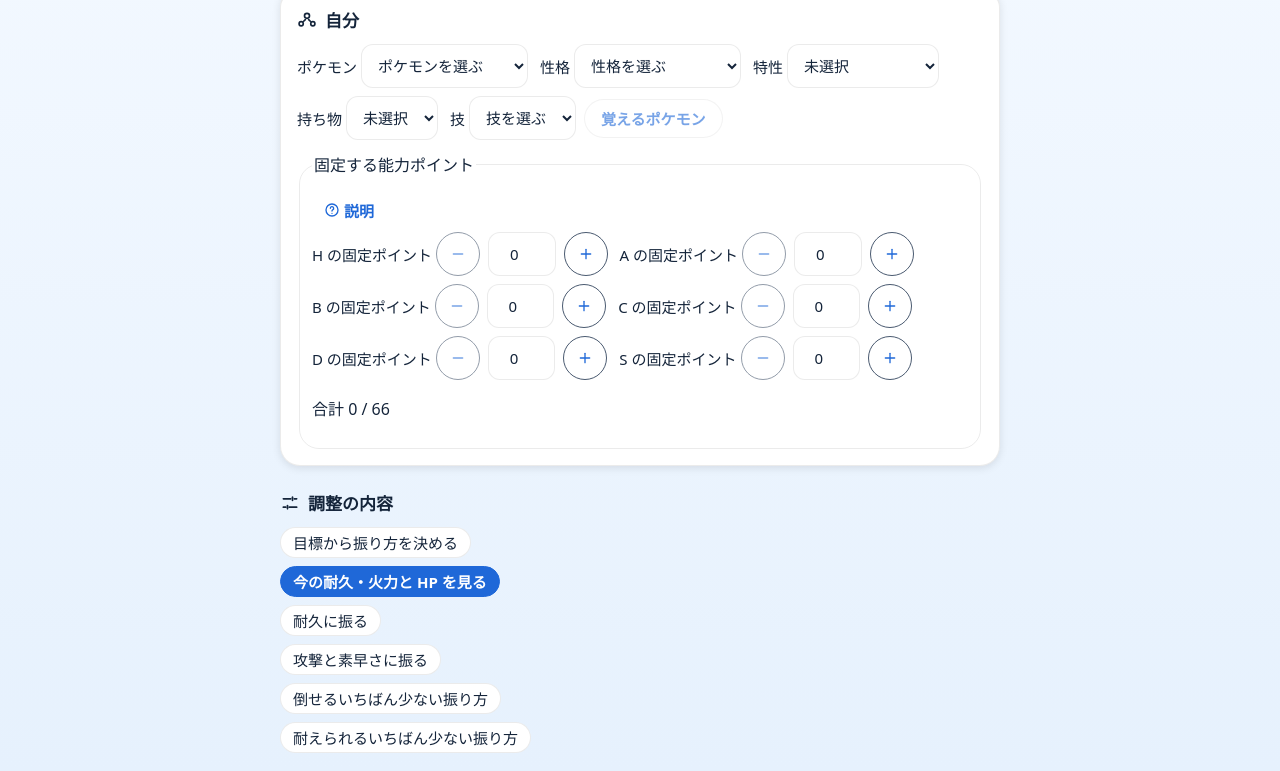
it: G1 目標の追加・切り替え・外す › モードを選ぶと領域「目標」と「目標を追加」を出し、領域「相手」は出さない。目標が無いときは案内の文
The width and height of the screenshot is (1280, 771).
Click the radio button labelled "目標から振り方を決める": [376, 542] box [280,527,471,558]
(page scrolled)
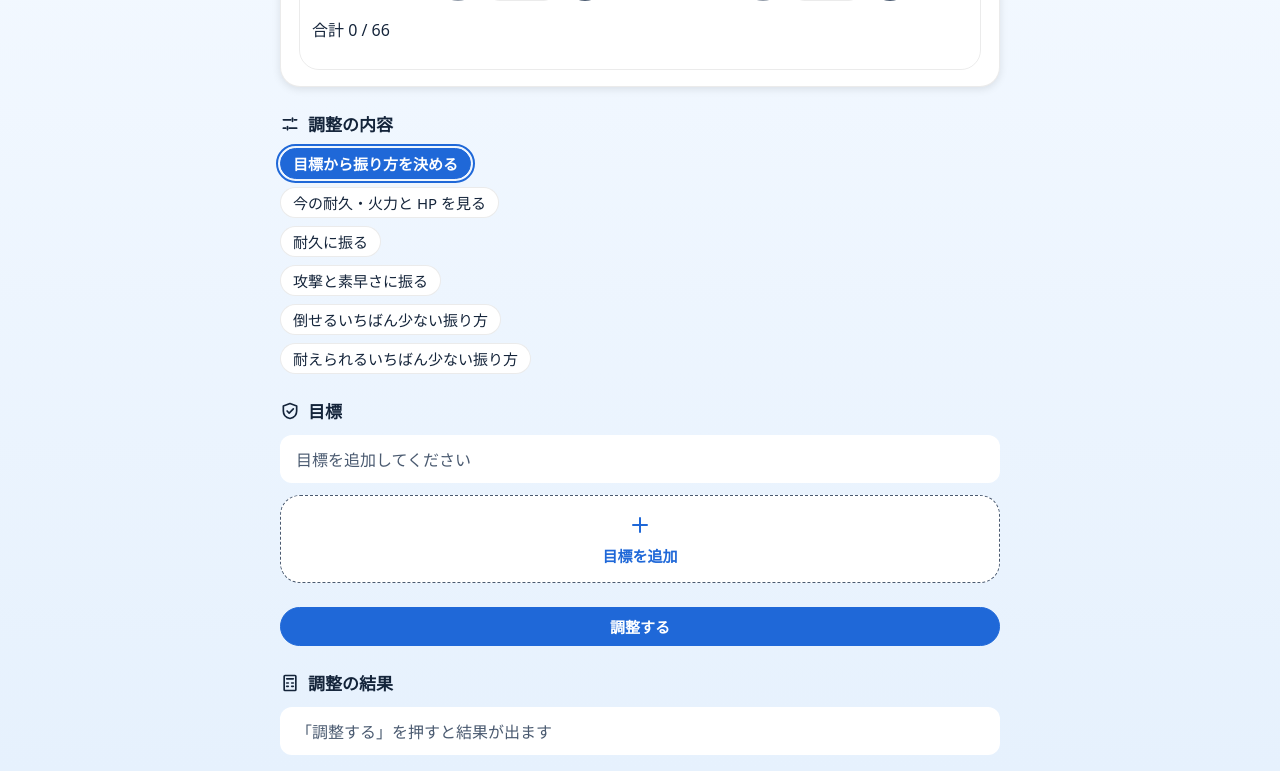
Expected: the heading "目標" is shown, [280,400,342,423]
Expected: the text "目標を追加してください" is shown, [280,435,1000,483]
Expected: the button "目標を追加" is enabled, [280,495,1000,583]
